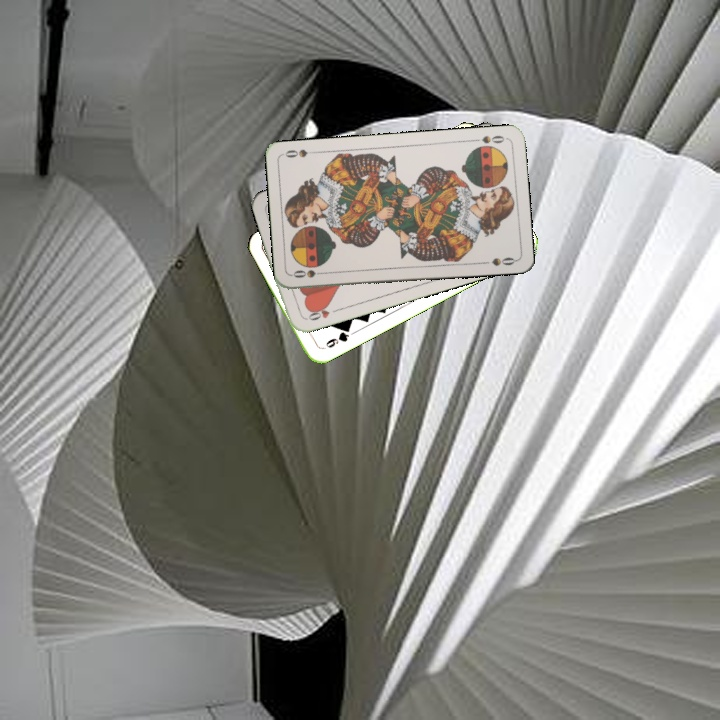G9: (318, 323, 353, 352)
HO: (301, 301, 341, 323)
SO: (468, 131, 509, 146), (289, 266, 329, 280)
